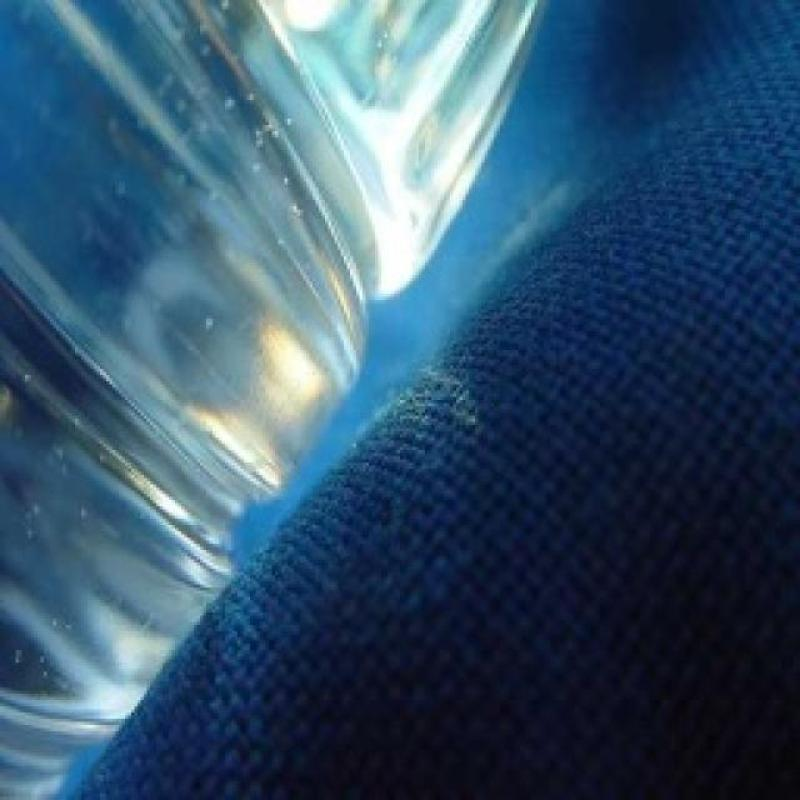botella: (0, 0, 548, 800)
